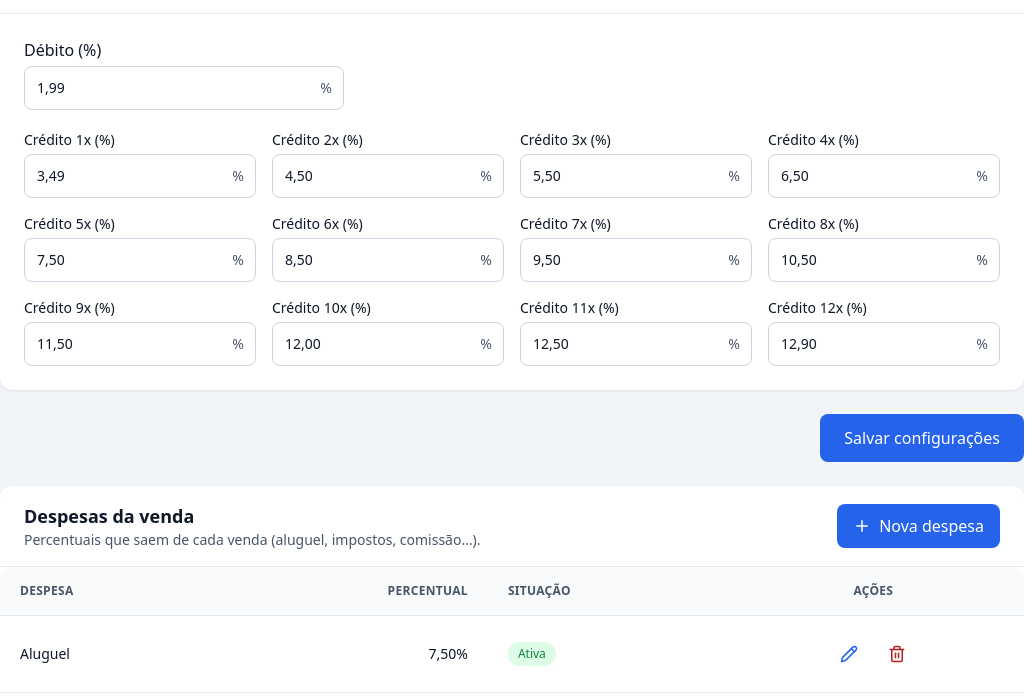
Test: PricingSettingsPage › shows the sum rule (422) at the top of the form
(page scrolled)
Click the button "Salvar configurações".
click(922, 438)  # box left=820, top=414, right=1024, bottom=462
(page scrolled)
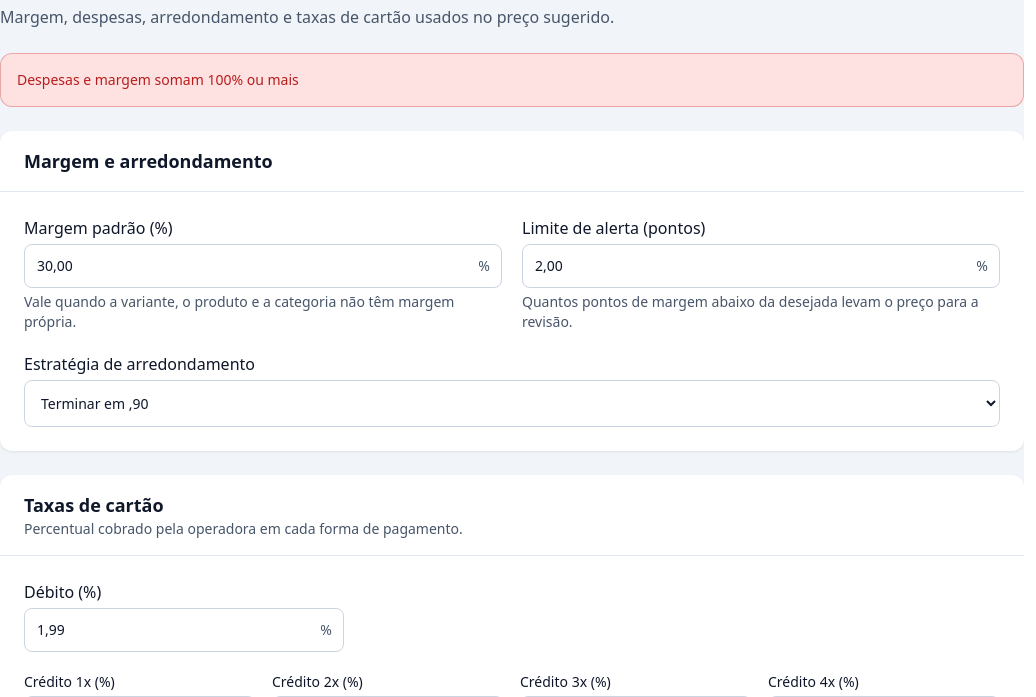
Expected: the message reads "Despesas e margem somam 100% ou mais", left=17, top=70, right=299, bottom=89
